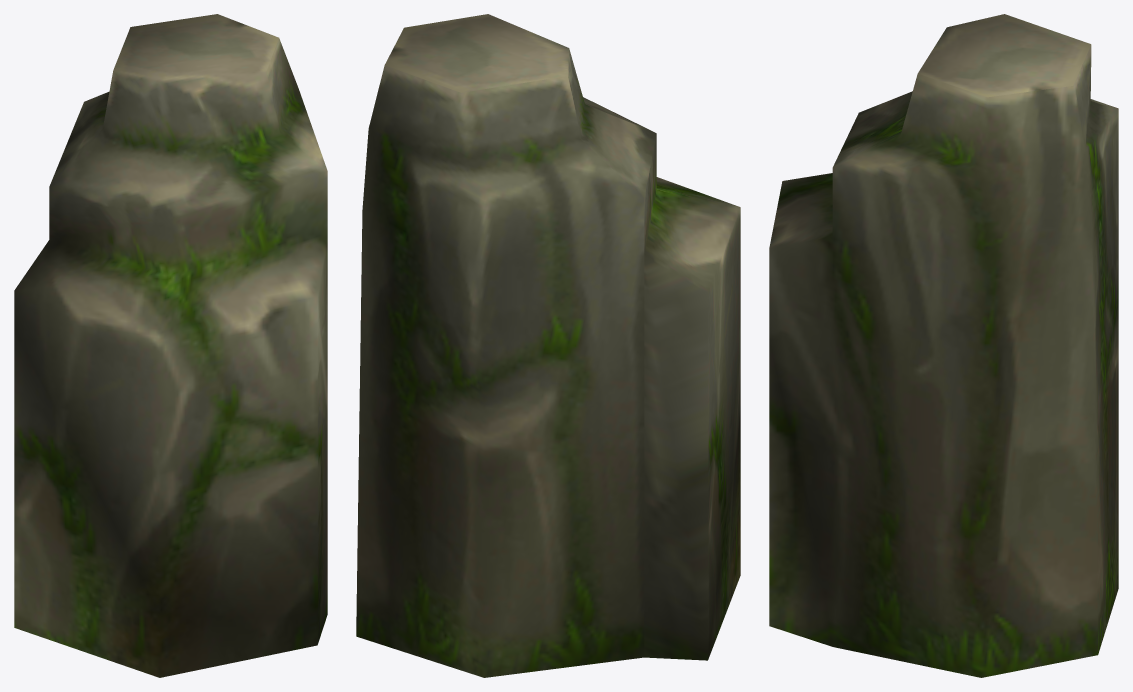
The model's file is RockFormation_4_5 (5).fbx.
3 renders of one model, left to right at view 1: azimuth 30°, elevation 25°; view 2: azimuth 150°, elevation 25°; view 3: azimuth 270°, elevation 25°, orthographic. The views are drawn at different scales.
Parts seen in each view (by area): view 1: RockFormation_4_5 (5); view 2: RockFormation_4_5 (5); view 3: RockFormation_4_5 (5).
Part boxes in pixels (bbox=[...]): RockFormation_4_5 (5): bbox=[14, 14, 327, 677]; RockFormation_4_5 (5): bbox=[356, 14, 740, 677]; RockFormation_4_5 (5): bbox=[769, 14, 1118, 677].
Size of the model in its own units: 320 by 516 by 291.
